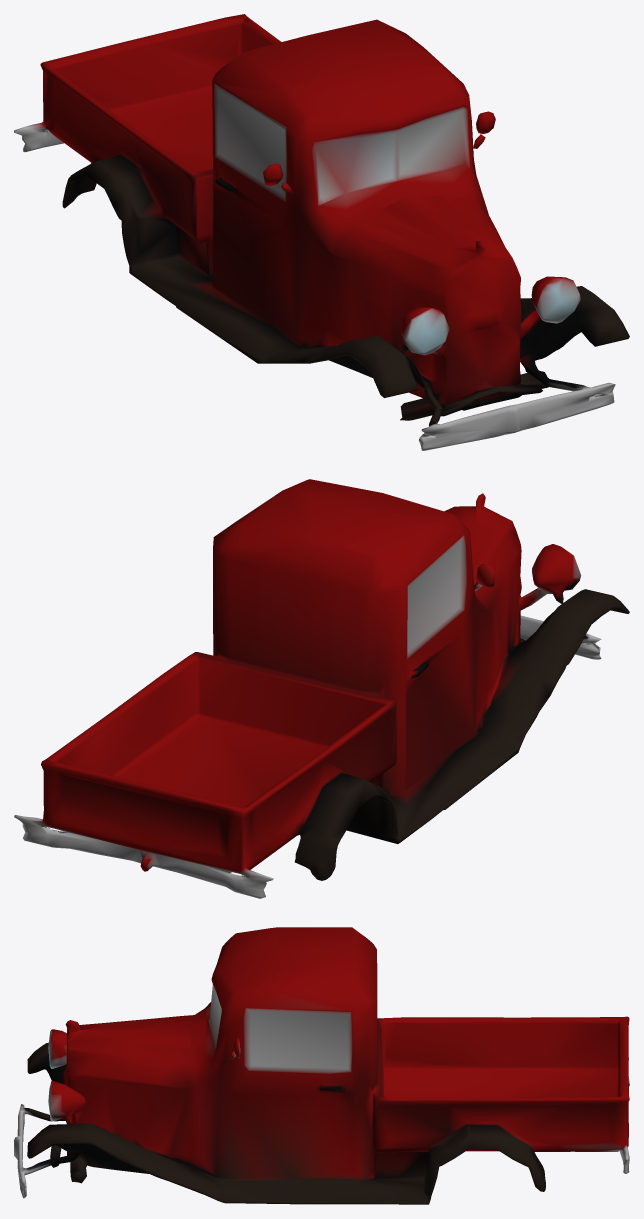
The model's file is retro_pickup_20250226.fbx.
The picture shows the model from 3 angles, top to bottom: view 1: azimuth 30°, elevation 25°; view 2: azimuth 150°, elevation 25°; view 3: azimuth 270°, elevation 25°; orthographic projection. The views are drawn at different scales.
Visible parts, largest first — view 1: Car; view 2: Car; view 3: Car.
Part boxes in pixels (x1,y1,x2,y2): Car: (14, 14, 629, 450); Car: (14, 479, 629, 898); Car: (14, 927, 629, 1204).
Size of the model in its own units: 280 by 247 by 664.
